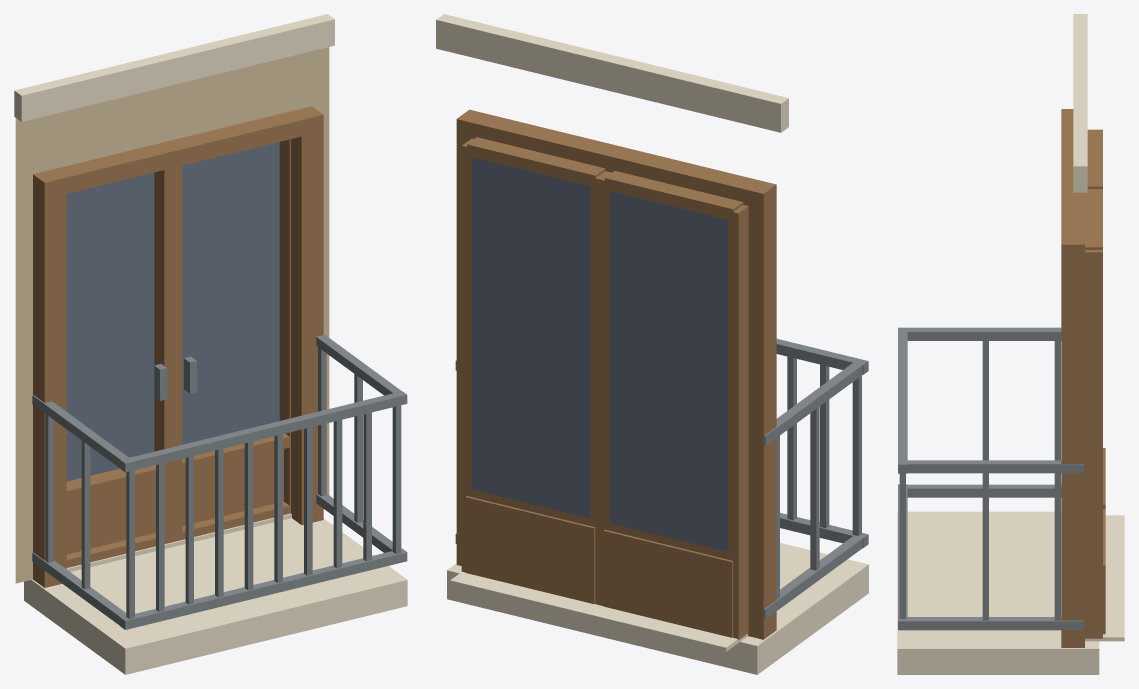
File: Balcony.glb
The picture shows the model from 3 angles, left to right: view 1: azimuth 30°, elevation 25°; view 2: azimuth 150°, elevation 25°; view 3: azimuth 270°, elevation 25°; orthographic projection. The views are drawn at different scales.
Parts seen in each view (by area): view 1: PBK_Continuous_Frame_Indochine_Balcony.001, PBK_balcony_slab.001, PBK_Indochine_Balcony_Exterior_Surface.001, PBK_balcony_door_glass.002, PBK_balcony_door_glass.001, PBK_floor_band.048, PBK_door_stile.009, PBK_front_rail.004, PBK_door_kick_panel.001, PBK_front_rail.001, PBK_door_stile.011, PBK_door_kick_panel.002 (+24 smaller); view 2: PBK_balcony_door_glass.001, PBK_balcony_door_glass.002, PBK_Continuous_Frame_Indochine_Balcony.001, PBK_floor_band.048, PBK_balcony_slab.001, PBK_door_kick_panel.001, PBK_door_kick_panel.002, PBK_door_stile.008, PBK_door_threshold.002, PBK_door_stile.011, PBK_door_stile.009, PBK_door_stile.010 (+13 smaller); view 3: PBK_balcony_slab.001, PBK_Continuous_Frame_Indochine_Balcony.001, PBK_door_stile.011, PBK_floor_band.048, PBK_door_threshold.002, PBK_side_rail.005, PBK_side_rail.007, PBK_side_rail.006, PBK_side_rail.004, PBK_front_rail.004, PBK_door_rail.017, PBK_side_baluster.006 (+7 smaller).
Boxes of the visible parts, x1,y1,x2,y2 form: PBK_Continuous_Frame_Indochine_Balcony.001: (33, 106, 323, 587); PBK_balcony_slab.001: (24, 518, 407, 674); PBK_Indochine_Balcony_Exterior_Surface.001: (15, 47, 329, 583); PBK_balcony_door_glass.002: (182, 142, 279, 444); PBK_balcony_door_glass.001: (66, 172, 154, 481); PBK_floor_band.048: (14, 14, 334, 121); PBK_door_stile.009: (154, 168, 173, 543); PBK_front_rail.004: (120, 391, 407, 472); PBK_door_kick_panel.001: (66, 480, 155, 554); PBK_front_rail.001: (120, 549, 407, 629); PBK_door_stile.011: (279, 139, 290, 512); PBK_door_kick_panel.002: (182, 449, 283, 525); PBK_balcony_door_glass.001: (610, 191, 728, 551); PBK_balcony_door_glass.002: (472, 157, 590, 518); PBK_Continuous_Frame_Indochine_Balcony.001: (456, 109, 776, 639); PBK_floor_band.048: (436, 14, 788, 132); PBK_balcony_slab.001: (447, 543, 868, 674); PBK_door_kick_panel.001: (603, 529, 733, 637); PBK_door_kick_panel.002: (465, 496, 595, 603); PBK_door_stile.008: (728, 205, 748, 640); PBK_door_threshold.002: (450, 571, 747, 651); PBK_door_stile.011: (461, 138, 473, 572); PBK_door_stile.009: (599, 172, 611, 605); PBK_door_stile.010: (590, 171, 609, 604); PBK_balcony_slab.001: (897, 511, 1099, 674); PBK_Continuous_Frame_Indochine_Balcony.001: (1061, 109, 1084, 647); PBK_door_stile.011: (1085, 250, 1102, 638); PBK_floor_band.048: (1073, 14, 1087, 192); PBK_door_threshold.002: (1085, 515, 1124, 641); PBK_side_rail.005: (898, 617, 1083, 630); PBK_side_rail.007: (898, 460, 1083, 473); PBK_side_rail.006: (898, 327, 1061, 340); PBK_side_rail.004: (899, 484, 1061, 497); PBK_front_rail.004: (898, 327, 907, 473); PBK_door_rail.017: (1085, 190, 1102, 249); PBK_side_baluster.006: (1054, 473, 1060, 620).
Bounding box in the file's own units: 2 × 3.16 × 1.26.
